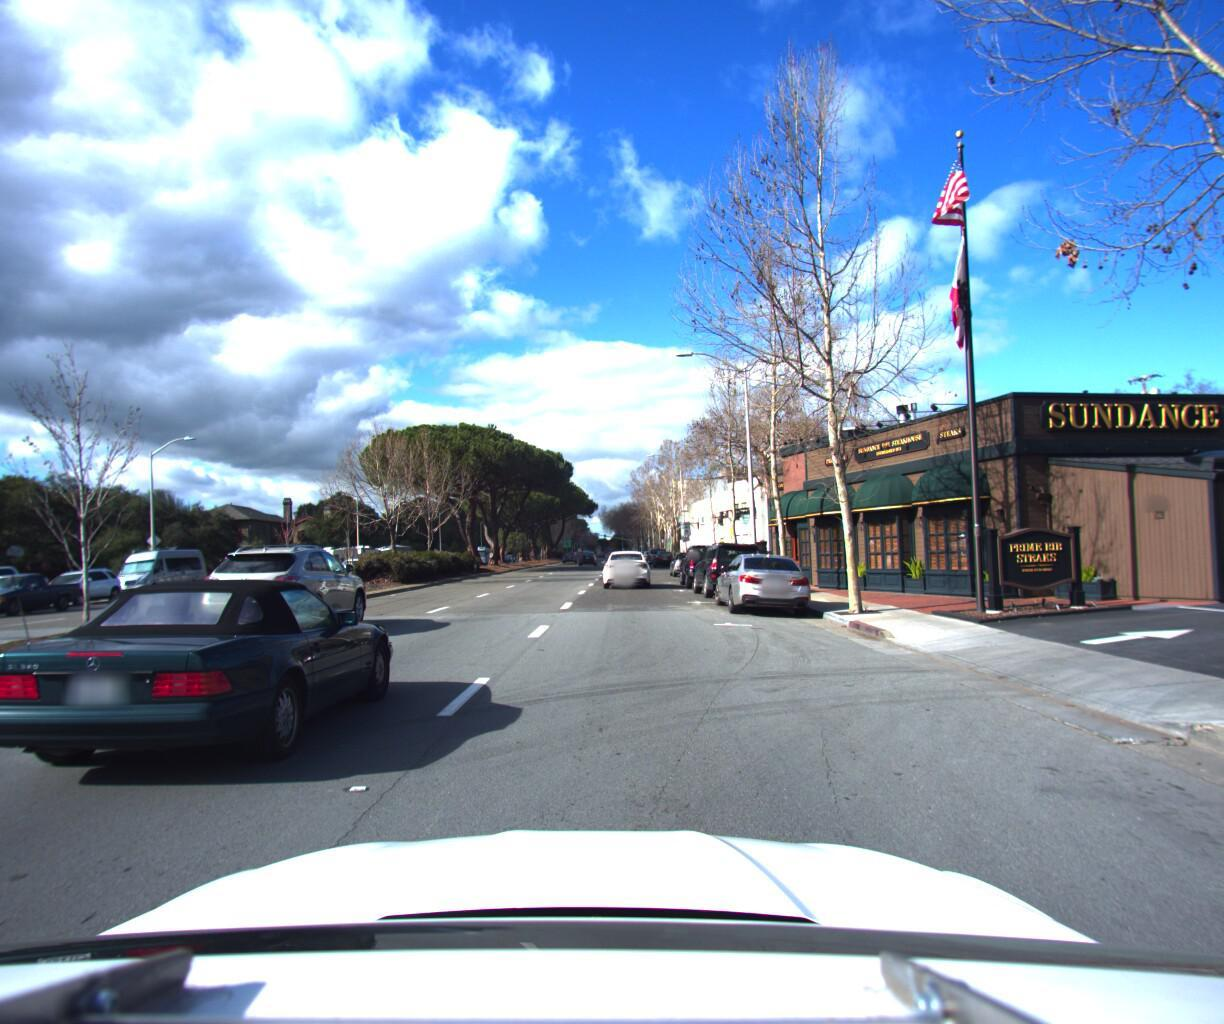car: (199, 533, 382, 639), (712, 543, 819, 617), (106, 536, 215, 595), (687, 533, 772, 593), (30, 559, 134, 604), (681, 533, 738, 585), (602, 538, 651, 581), (669, 541, 705, 569), (653, 541, 676, 559), (577, 542, 597, 558)
other_vehicle: (302, 536, 365, 574), (336, 536, 384, 570)
